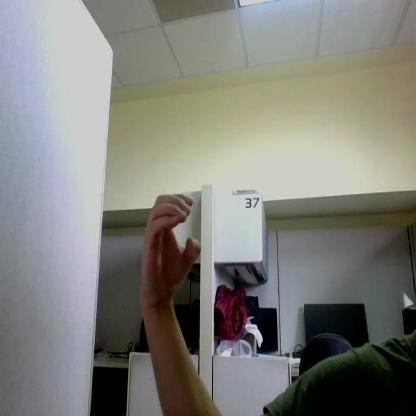C: (142, 195, 201, 302)
